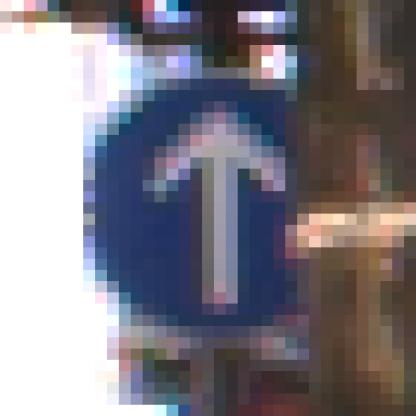AheadOnly: (61, 69, 358, 350)
